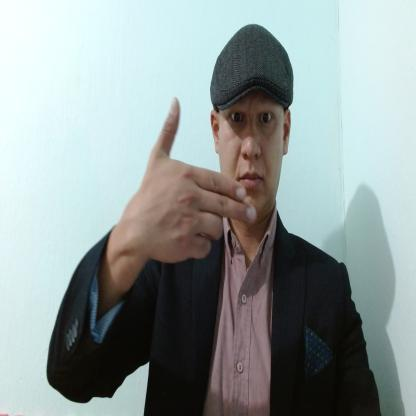H: (136, 96, 256, 265)
